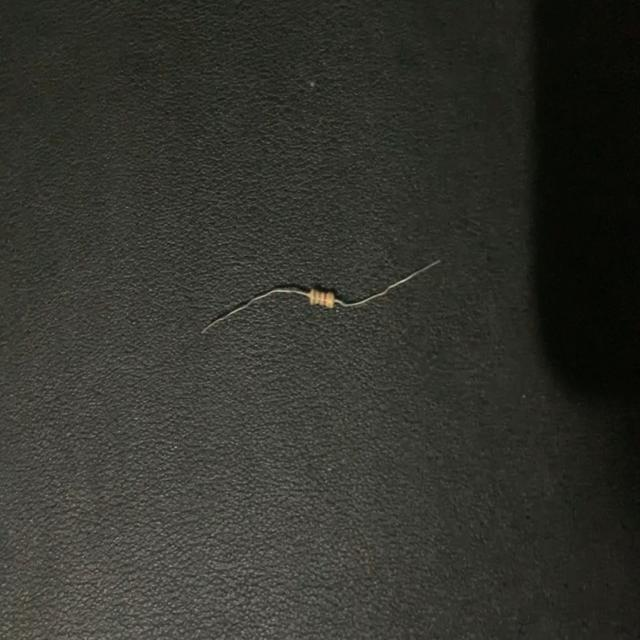resistor: (198, 251, 445, 342)
